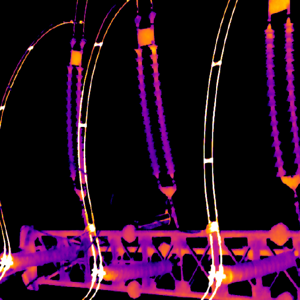insulator: (146, 40, 176, 180), (132, 43, 160, 179), (263, 20, 285, 175), (282, 15, 300, 175), (218, 250, 295, 284), (4, 242, 75, 268), (98, 258, 172, 278), (76, 66, 88, 185), (65, 62, 74, 183)
